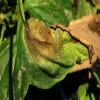Bell_pepper leaf spot: (16, 10, 96, 92)
